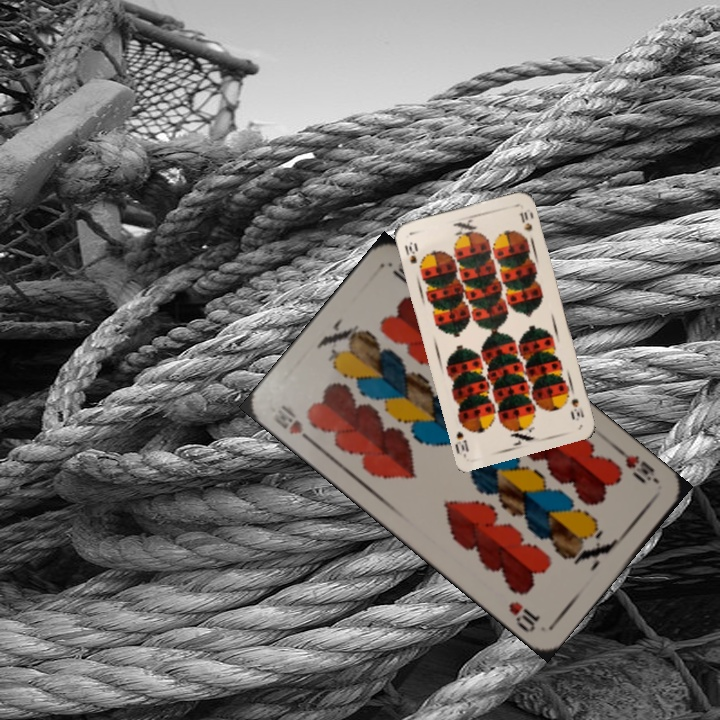H10: (269, 400, 318, 448), (612, 443, 662, 487)
S10: (400, 238, 420, 266), (567, 394, 586, 423)
